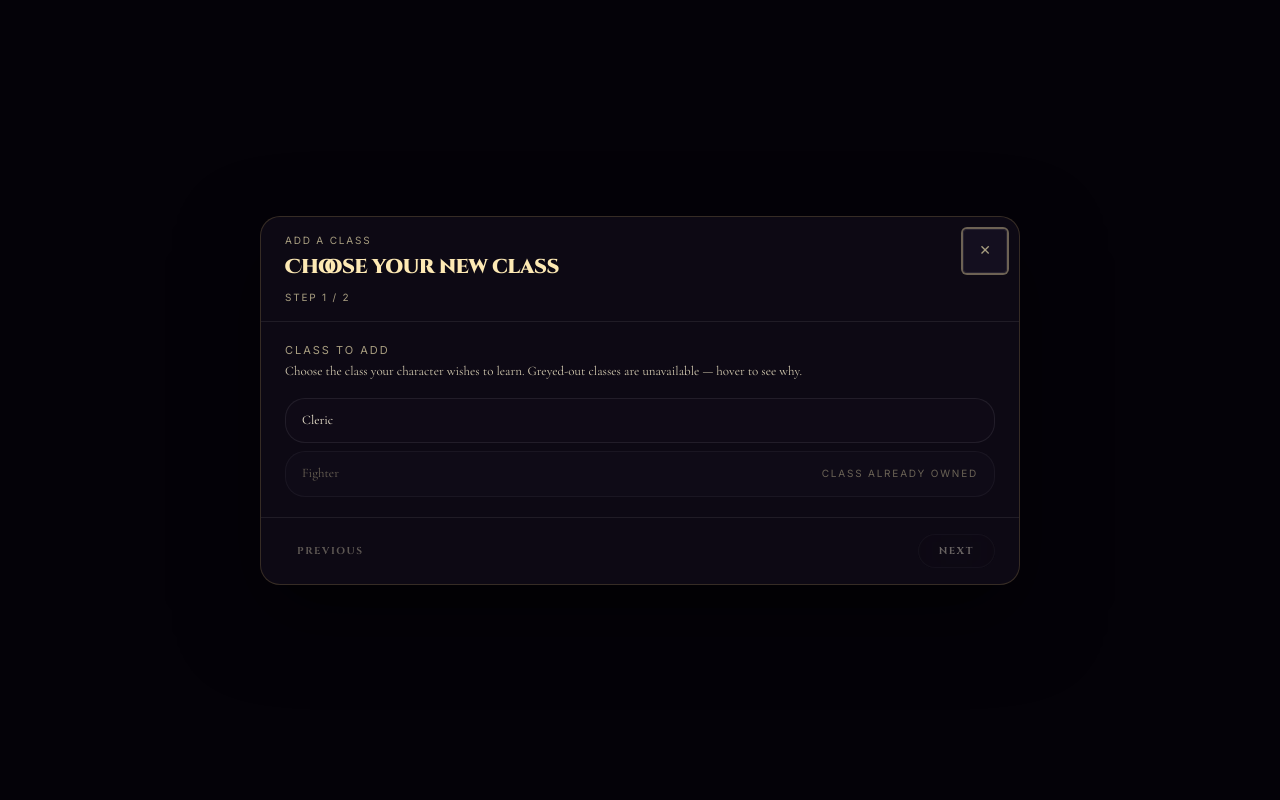
Test: LevelUpModal — passe i18n (rouge avant vert) › mode ajout de classe : picker + sous-choix L1 en EN
Expected: the text "Add a class" is shown, [285, 234, 371, 246]
Expected: the heading "Choose your new class" is shown, [285, 252, 559, 280]
// Sélection Cleric → sous-choix L1 (AddClassSubChoicesStep) en EN.
Click the radio button labelled "Cleric".
click(318, 420)  # box [285, 398, 995, 443]
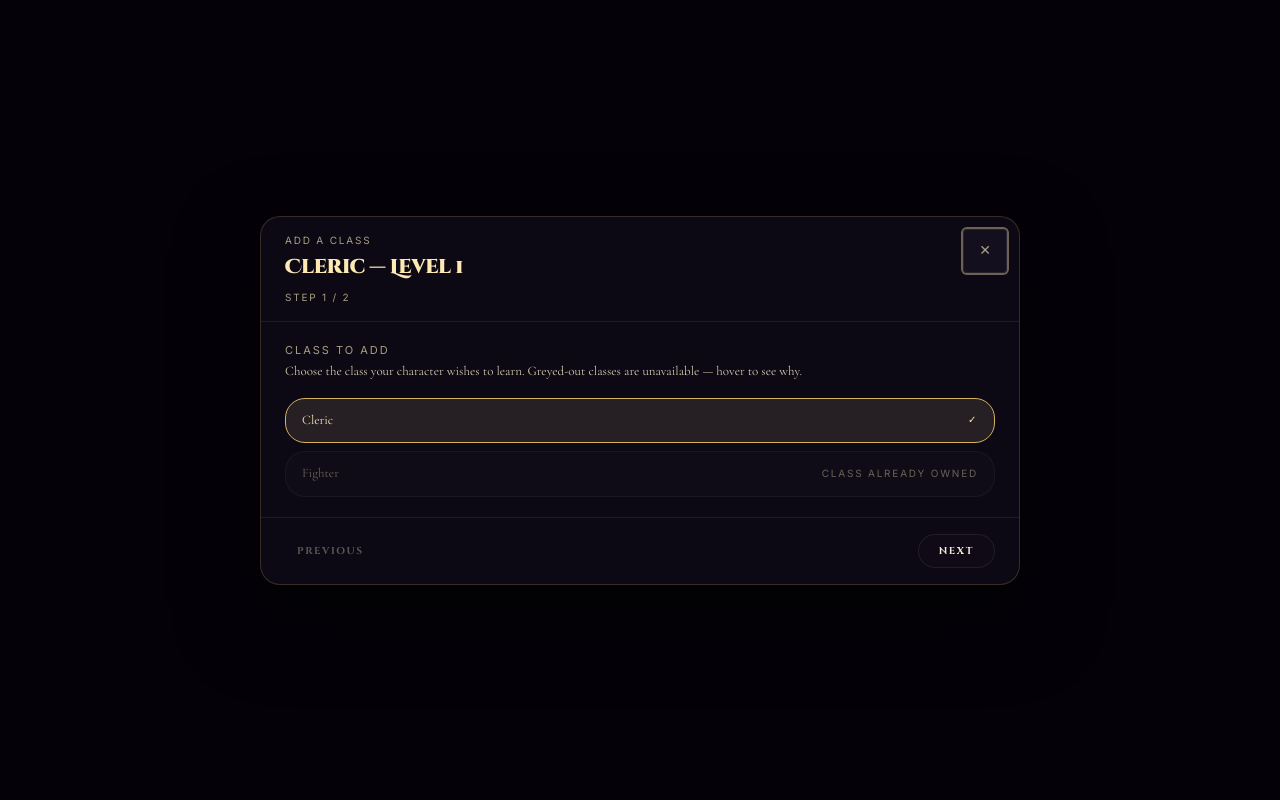
Result: the heading "Cleric — Level 1" is shown at [285, 252, 463, 280]
Click the button "Next".
click(956, 550)  # box [918, 534, 995, 568]
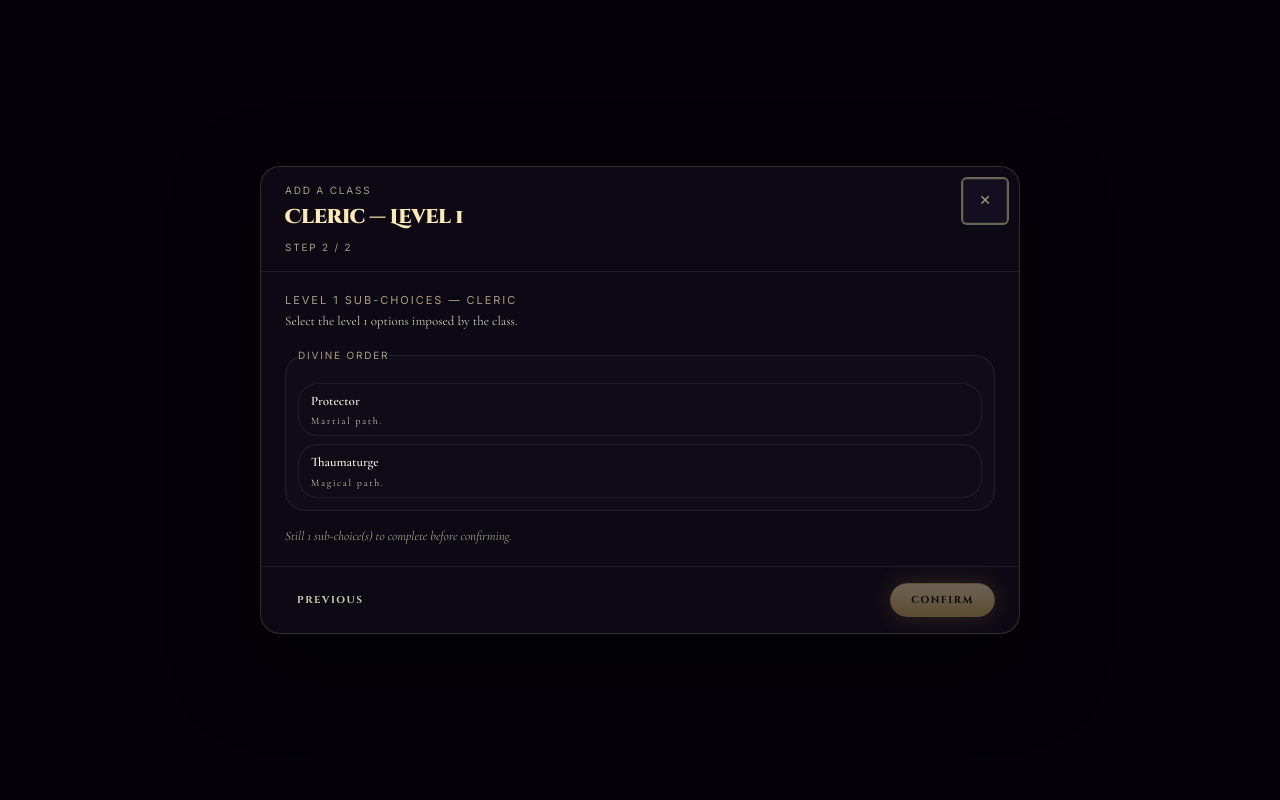
Result: the heading "Level 1 sub-choices — Cleric" is shown at [285, 293, 517, 307]
Result: the text "Divine order" is shown at [298, 348, 389, 363]
